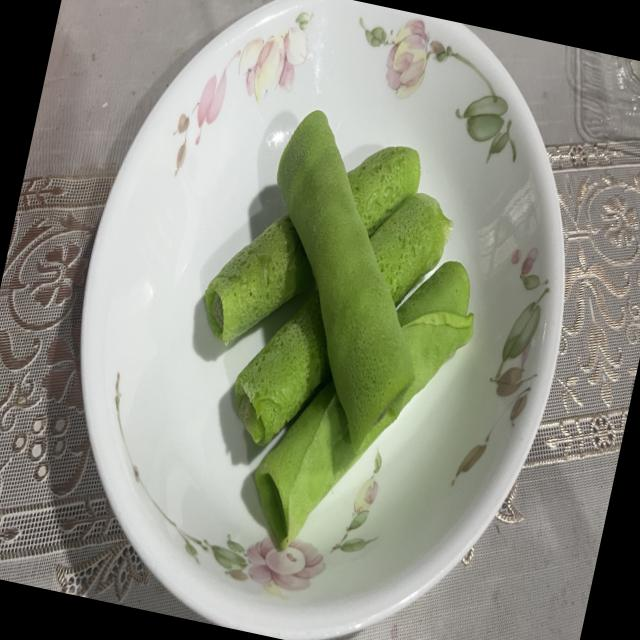Kuih-Ketayap: (255, 261, 473, 549), (276, 110, 413, 450), (234, 292, 330, 445), (204, 215, 313, 343), (370, 193, 452, 305), (347, 146, 420, 235)
